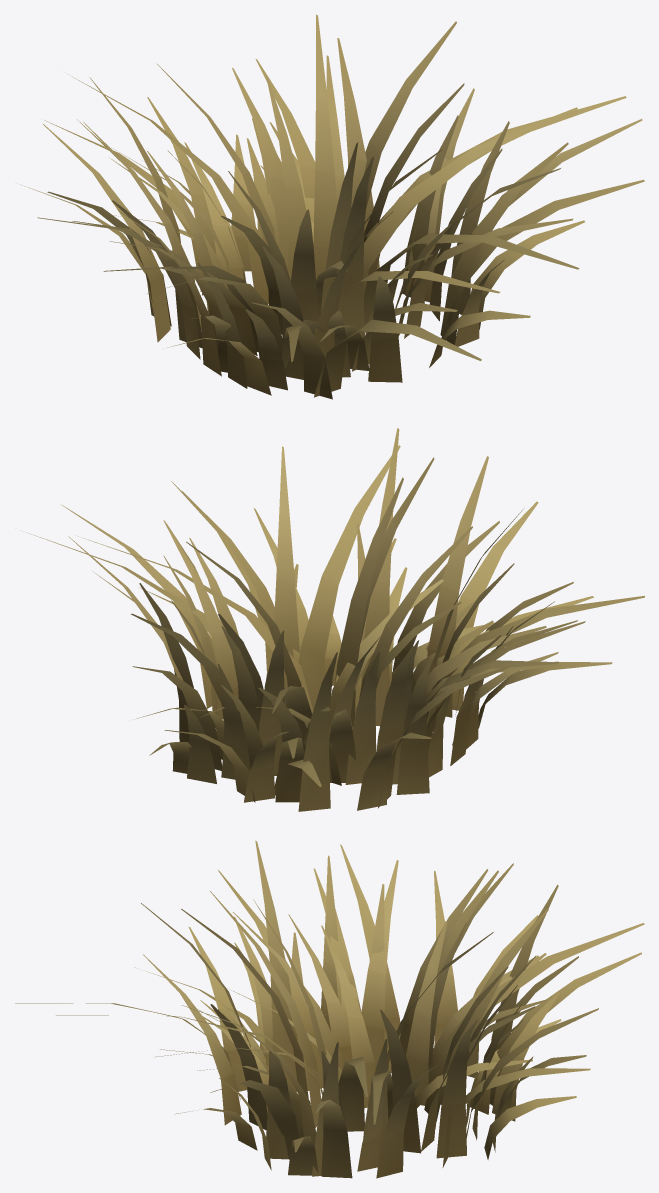
Rendered from PLN_Grass_Dry.fbx.
3 views of the same model, one above another, from view 1: azimuth 30°, elevation 25°; view 2: azimuth 150°, elevation 25°; view 3: azimuth 270°, elevation 25° (orthographic). The views are drawn at different scales.
Visible parts, largest first — view 1: PLN_Grass_Dry; view 2: PLN_Grass_Dry; view 3: PLN_Grass_Dry.
Boxes of the visible parts, x1,y1,x2,y2 form: PLN_Grass_Dry: (22, 14, 644, 399); PLN_Grass_Dry: (27, 428, 644, 811); PLN_Grass_Dry: (15, 840, 644, 1178).
Size of the model in its own units: 0.8115 by 0.3324 by 0.8484.
